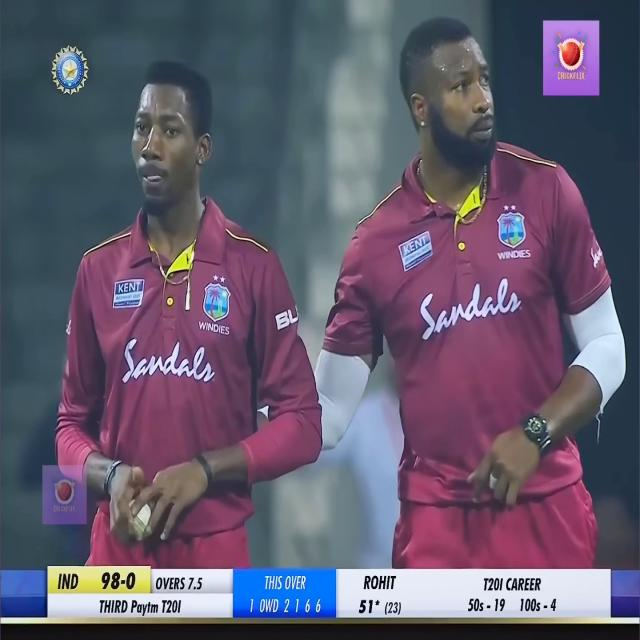fully_visible: (130, 593, 160, 619)
